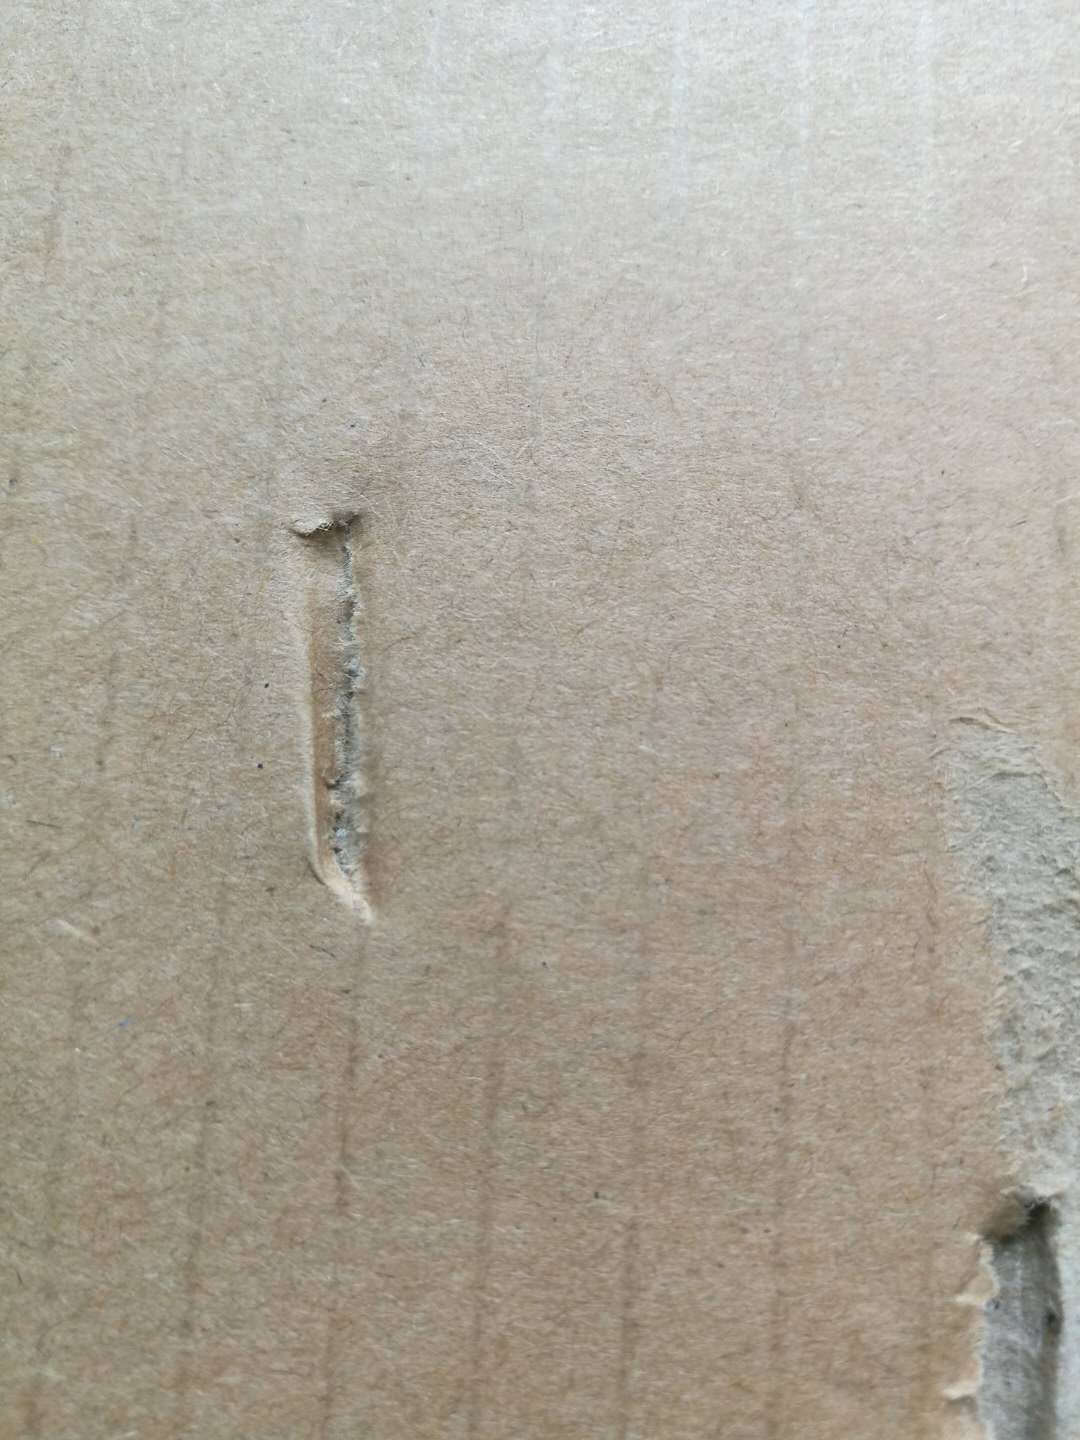defect: (860, 679, 1079, 1440), (245, 454, 449, 976)
